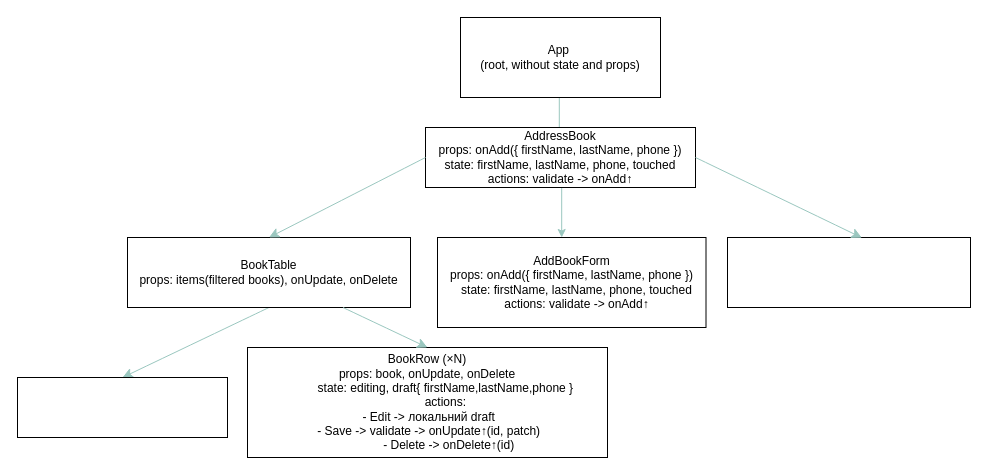
Some shapes in this 988 by 475 pixel diagram are drawn without their labels. The shapes that lost their labels are listed below. From the top down, each one's centre as x and y in pixels, then its label:
point (848, 272): BookSearch props: value, onChange actions: onChange (changed query)
point (122, 407): EmptyState (when items.length === 0)
